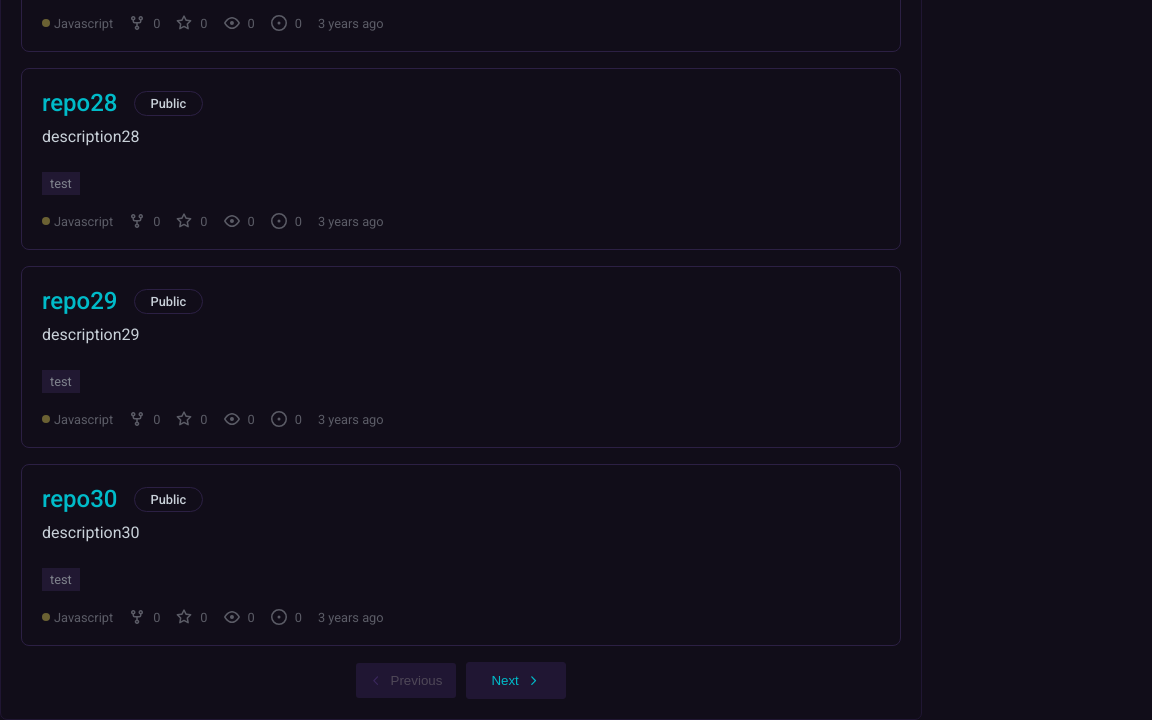
RepositoriesList › Should be able to go to previous page
(page scrolled)
Click the button "Next".
click(516, 680)  # box [466, 662, 566, 699]
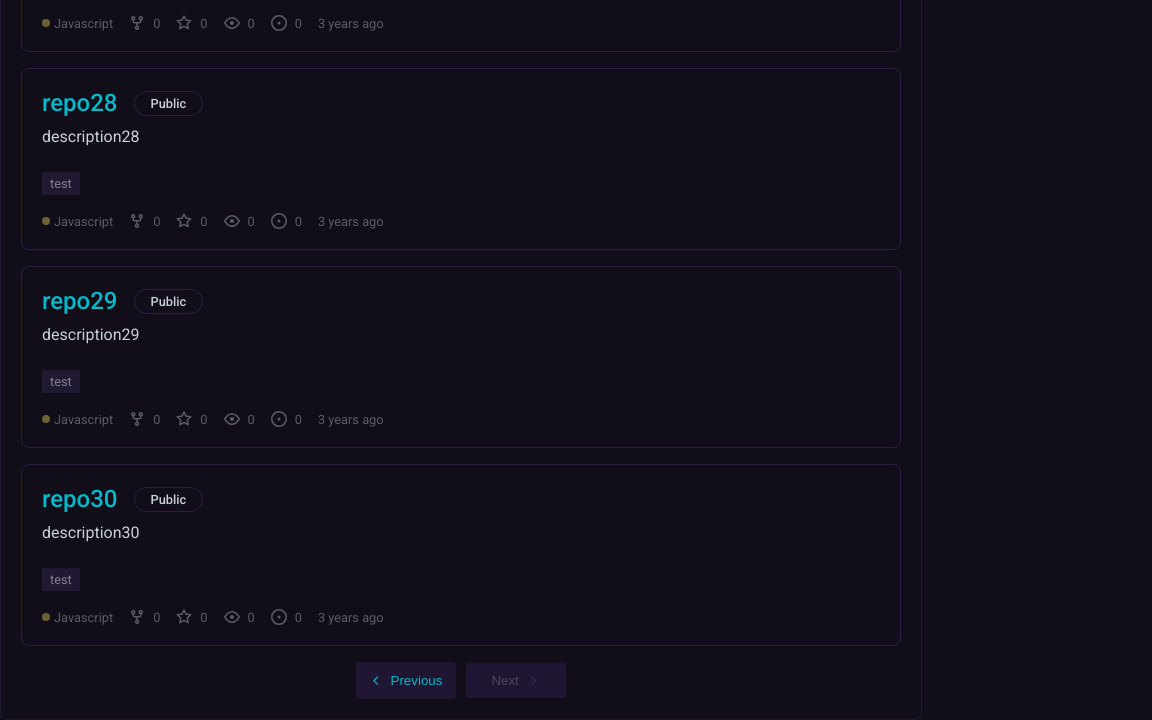
Expected: the button "Previous" is enabled
Click the button "Previous".
click(406, 680)  # box [356, 662, 456, 699]
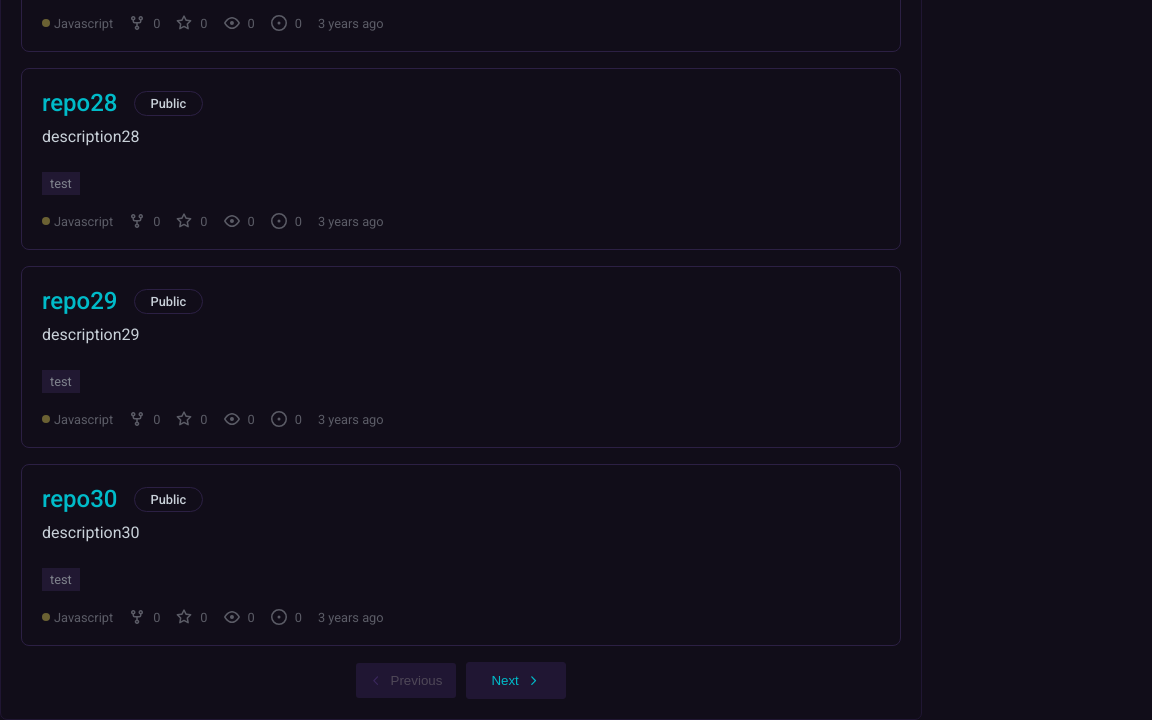
Expected: the button "Next" is enabled, [466, 662, 566, 699]
